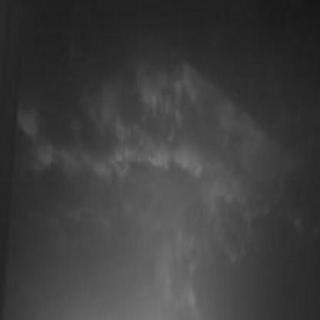Fire: (12, 52, 282, 308)
